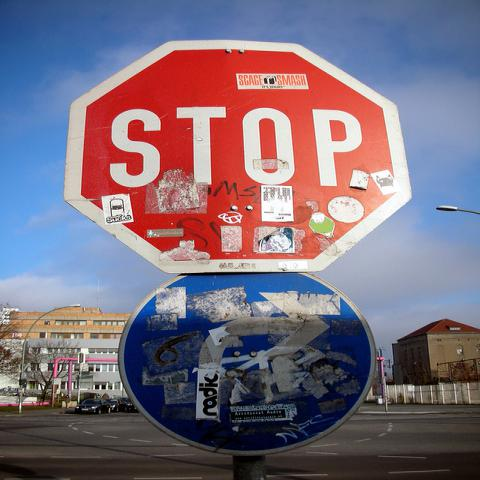car: (75, 398, 111, 414), (119, 397, 140, 413), (105, 398, 121, 412)
